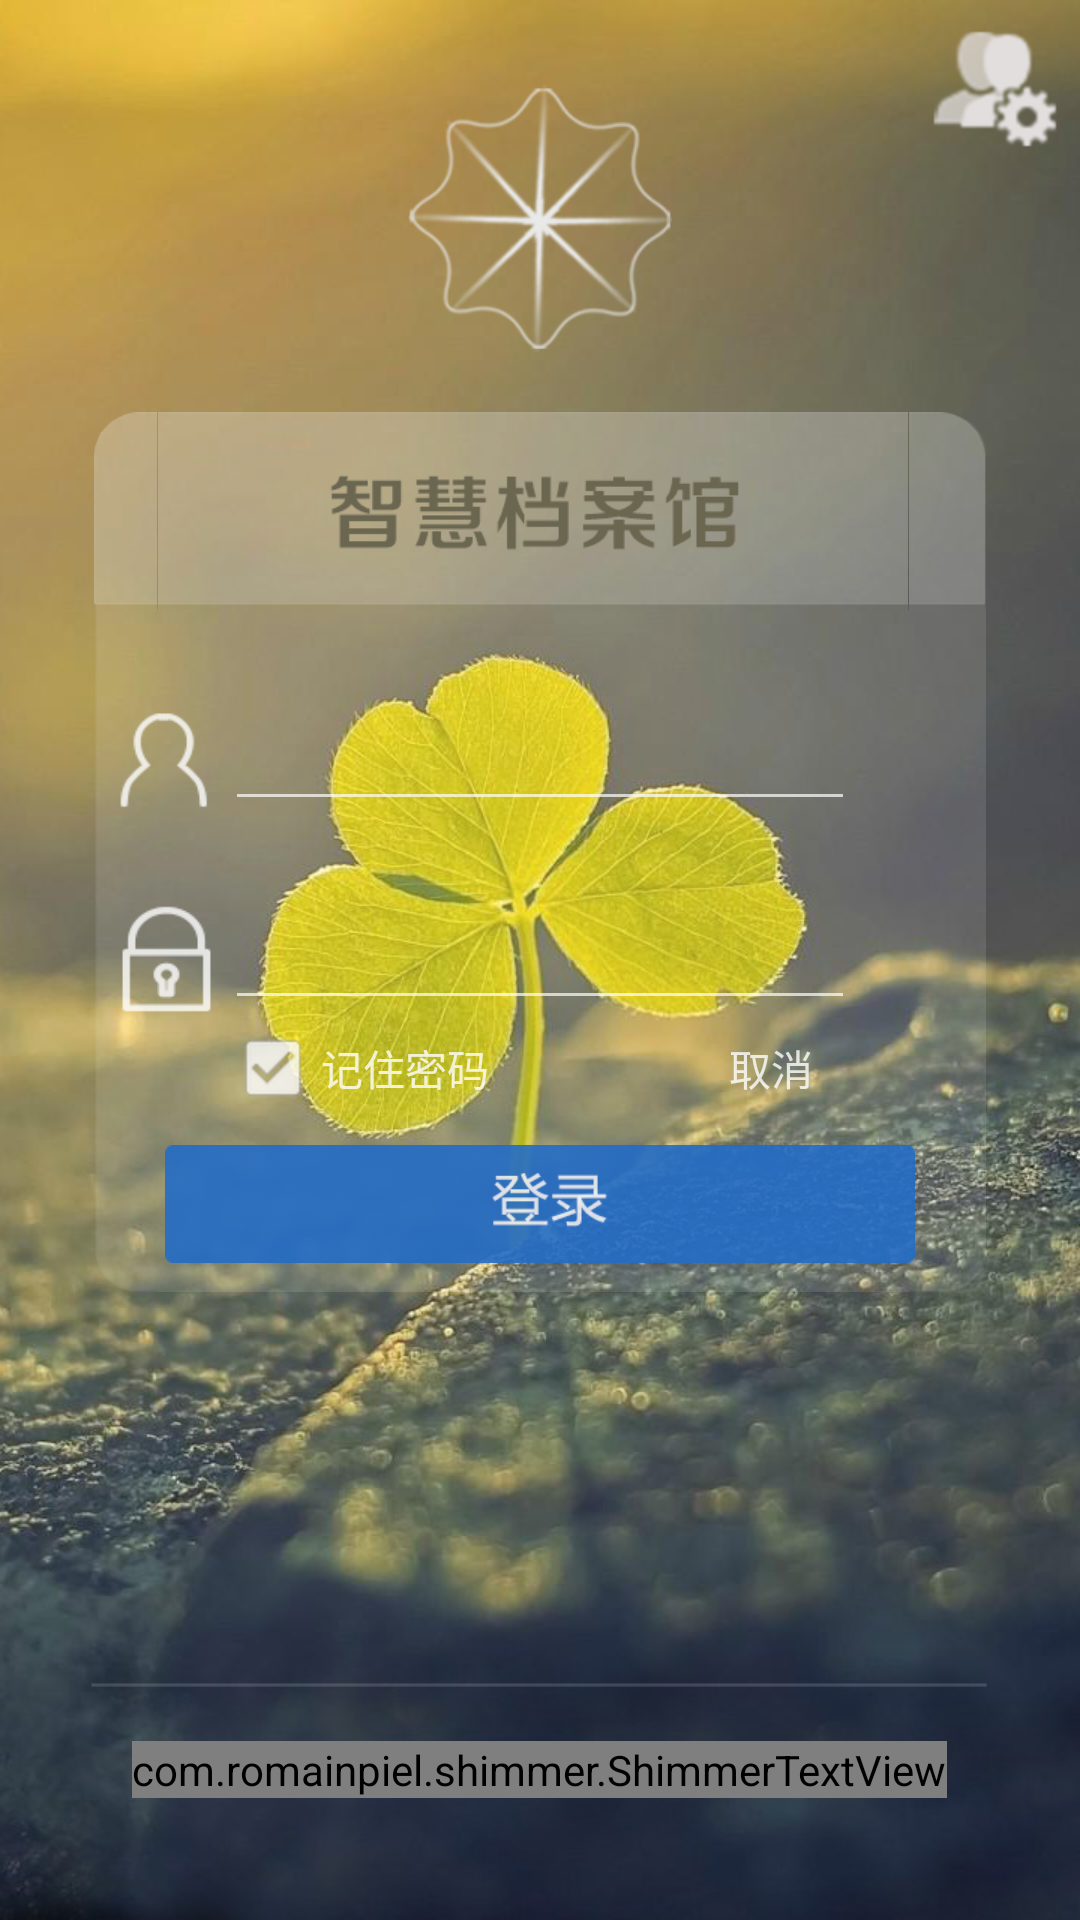

Named icons in this screenshot (1080w x 1920h) and their centers, [x,y]:
login pass: [166,965]
login usr: [166,757]
